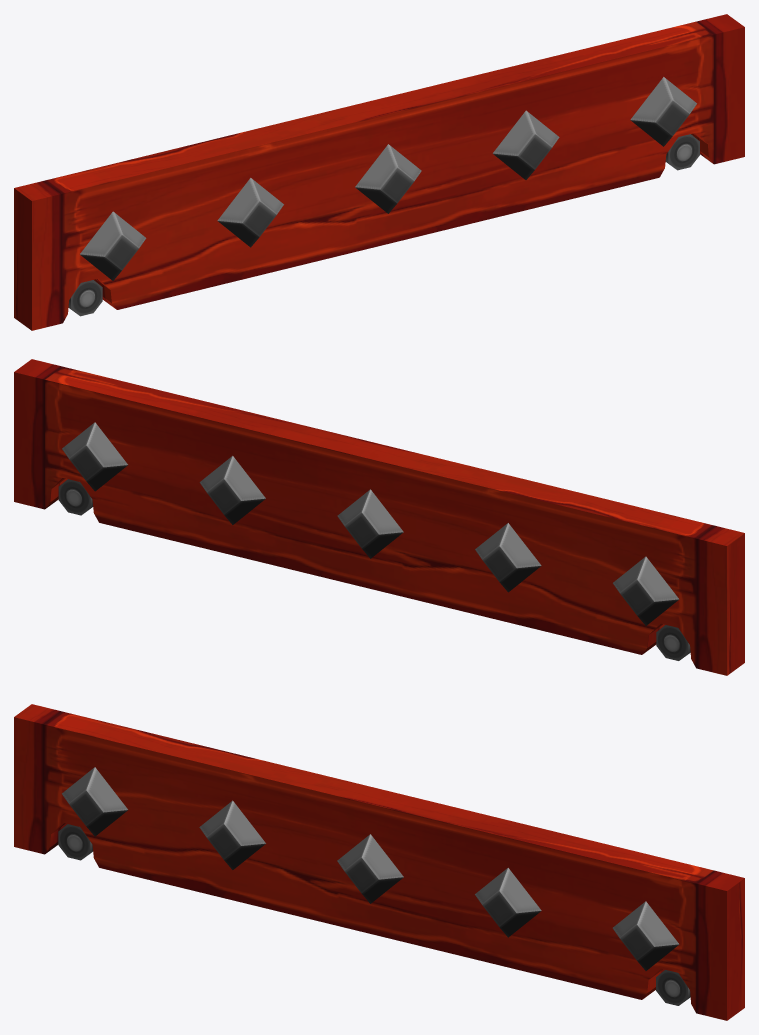
The model's file is dynamic_fence_rad_03.fbx.
The picture shows the model from 3 angles, top to bottom: view 1: azimuth 30°, elevation 25°; view 2: azimuth 150°, elevation 25°; view 3: azimuth 330°, elevation 25°; orthographic projection.
Parts seen in each view (by area): view 1: dynamic_fence_rad_03; view 2: dynamic_fence_rad_03; view 3: dynamic_fence_rad_03.
Part boxes in pixels (box(x1,y1,x2,y2)): dynamic_fence_rad_03: box(14, 14, 744, 330); dynamic_fence_rad_03: box(14, 359, 744, 675); dynamic_fence_rad_03: box(14, 704, 744, 1020).
Bounding box in the file's own units: 230 × 40 × 19.91.
